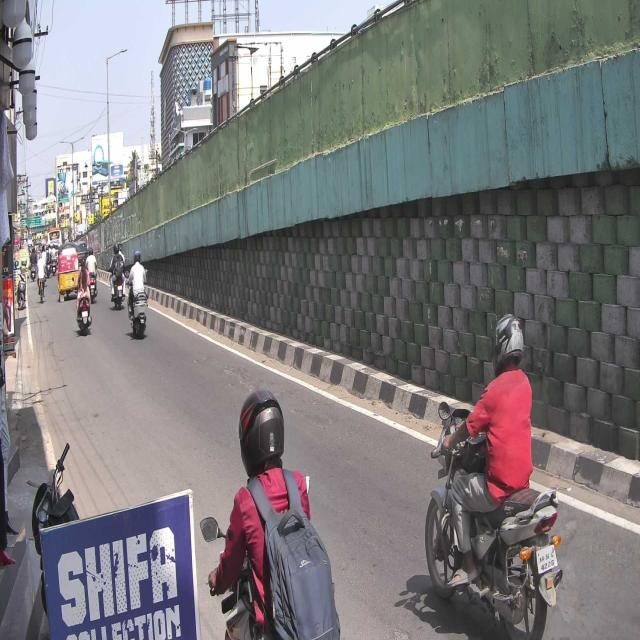single_rider: (424, 312, 564, 640)
